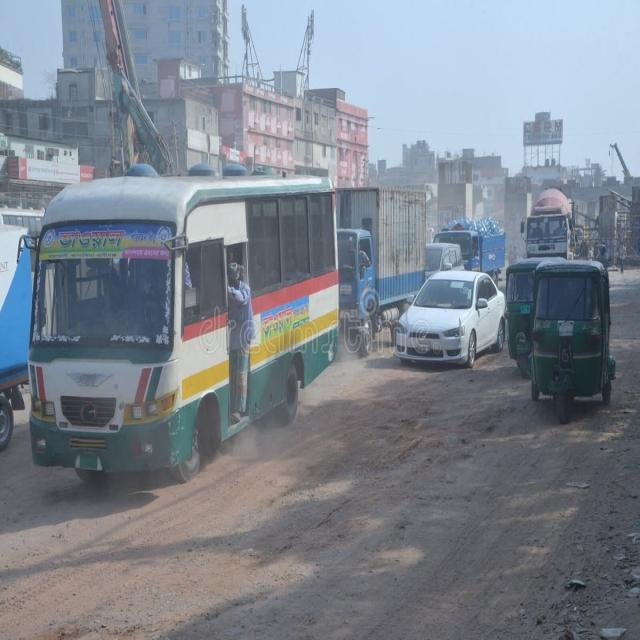Bus: (23, 156, 360, 484)
CNG: (529, 254, 618, 428)
Car: (395, 269, 506, 372)
Pick-up-van: (333, 180, 437, 353)
